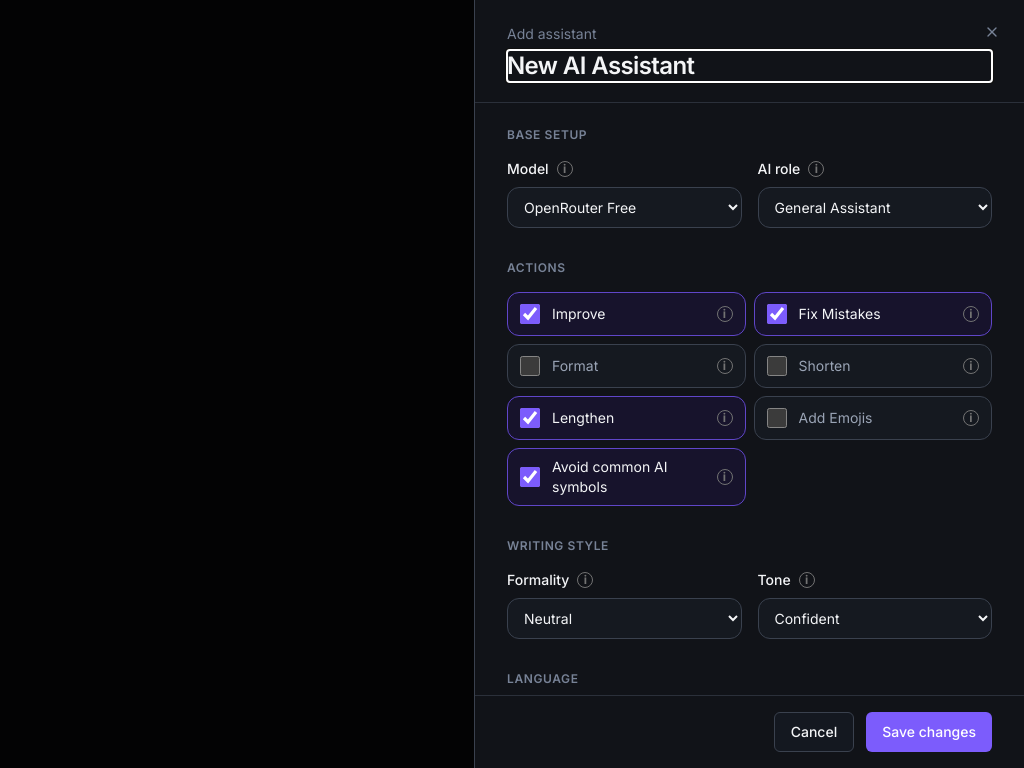
it: ConfigEditorModal Integration Tests › Mutual exclusivity - Shorten/Lengthen › should uncheck lengthen when shorten is checked
This screenshot has width=1024, height=768.
Expected: the checkbox labelled "Lengthen" is checked, [520,408,540,428]
Click the checkbox labelled "Shorten": (776, 366) [766,356,786,376]
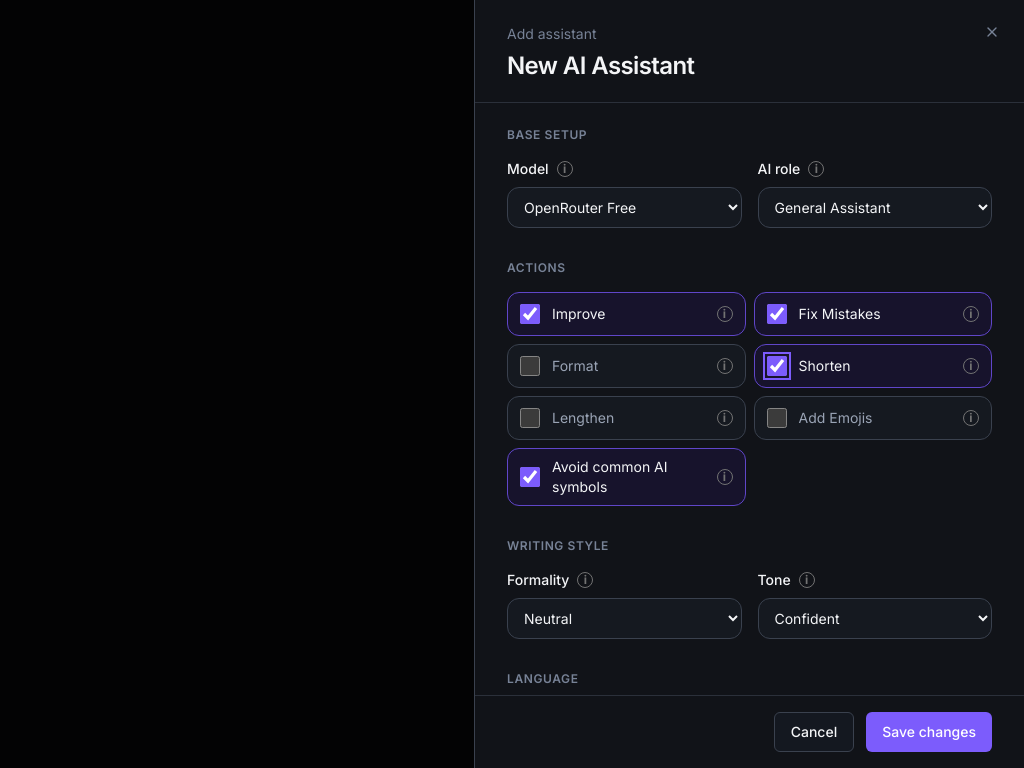
Expected: the checkbox labelled "Shorten" is checked, [766,356,786,376]
Expected: the checkbox labelled "Lengthen" is not checked, [520,408,540,428]
